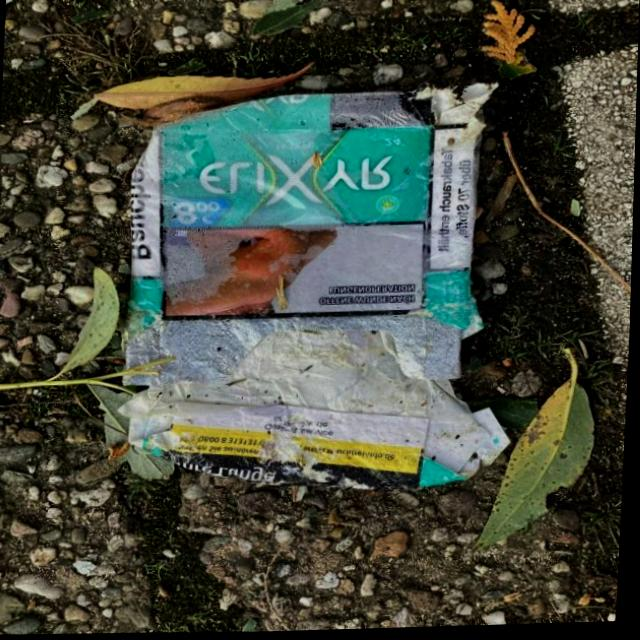Paper: (112, 70, 535, 506)
